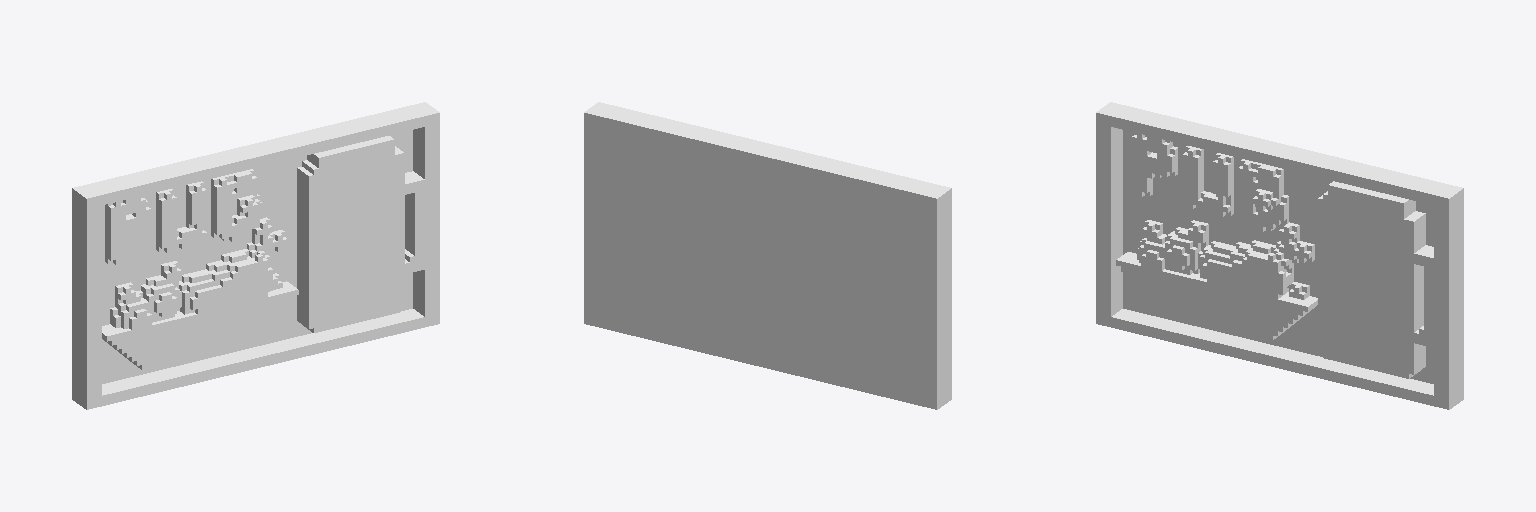
The model's file is PubSign.obj.
The picture shows the model from 3 angles: view 1: azimuth 30°, elevation 25°; view 2: azimuth 150°, elevation 25°; view 3: azimuth 330°, elevation 25°; orthographic projection.
Parts seen in each view (by area): view 1: object 1; view 2: object 1; view 3: object 1.
Boxes of the visible parts, <box> form: object 1: <box>72,102,439,409</box>; object 1: <box>584,102,951,409</box>; object 1: <box>1096,102,1463,409</box>.
Bounding box in the file's own units: 7 × 4 × 0.5.